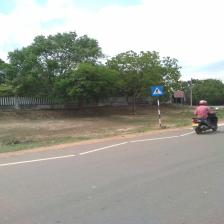blueboard: (154, 84, 164, 96)
